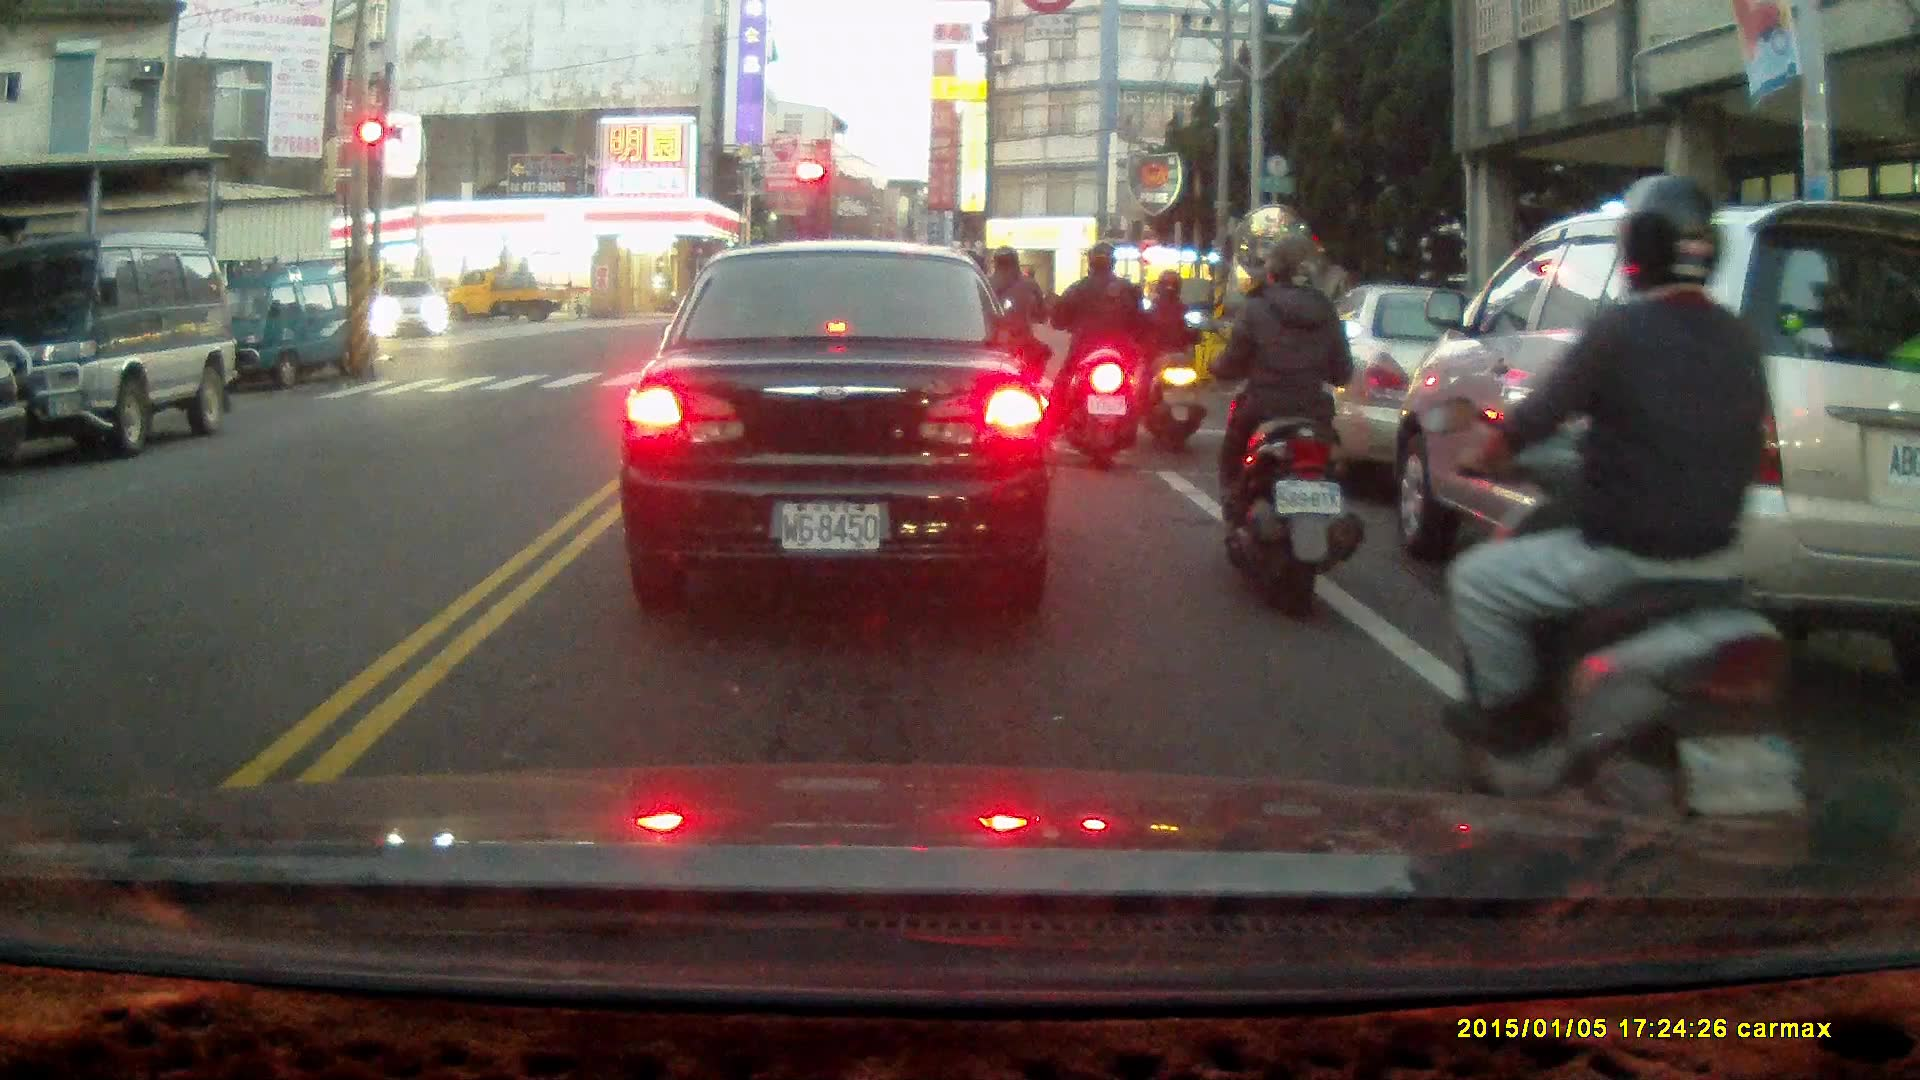rider: (1417, 167, 1815, 896), (1186, 229, 1362, 623), (1048, 243, 1141, 469), (962, 244, 1050, 447), (1134, 269, 1204, 450)
vehicle: (1381, 195, 1920, 685), (617, 243, 1061, 606), (1264, 282, 1590, 492), (1, 234, 239, 458), (194, 255, 381, 395), (439, 265, 569, 327), (372, 277, 451, 343)
